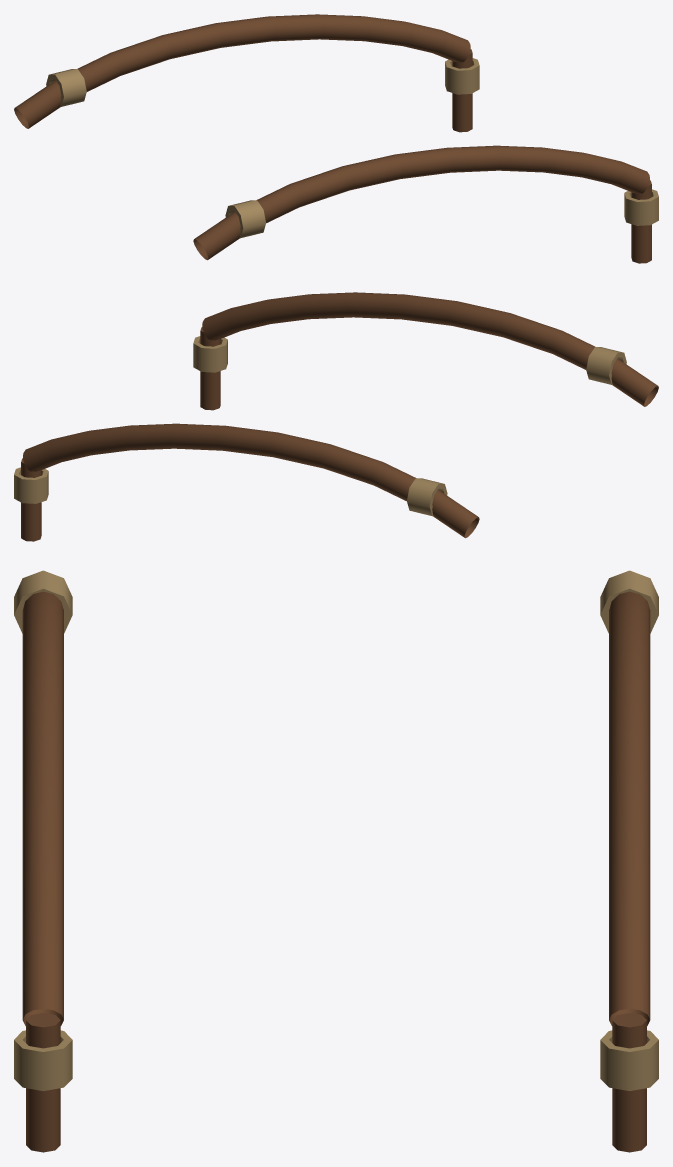
The model's file is k1_iako.obj.
3 renders of one model, top to bottom at view 1: azimuth 30°, elevation 25°; view 2: azimuth 150°, elevation 25°; view 3: azimuth 270°, elevation 25°, orthographic. The views are drawn at different scales.
Visible parts, largest first — view 1: k1_iako; view 2: k1_iako; view 3: k1_iako.
Part boxes in pixels (<box>): k1_iako: <box>14,14,658,263</box>; k1_iako: <box>14,292,658,541</box>; k1_iako: <box>14,570,658,1152</box>.
Size of the model in its own units: 1.01 by 0.3442 by 0.748.
